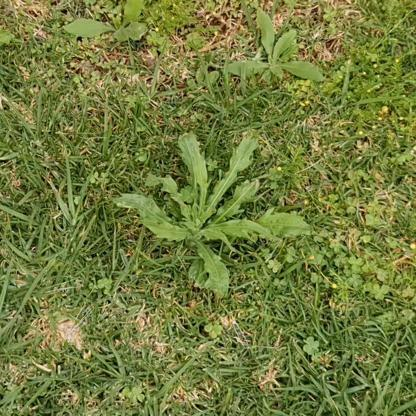Weeds: (113, 130, 313, 300), (224, 5, 323, 79), (64, 0, 153, 45)
